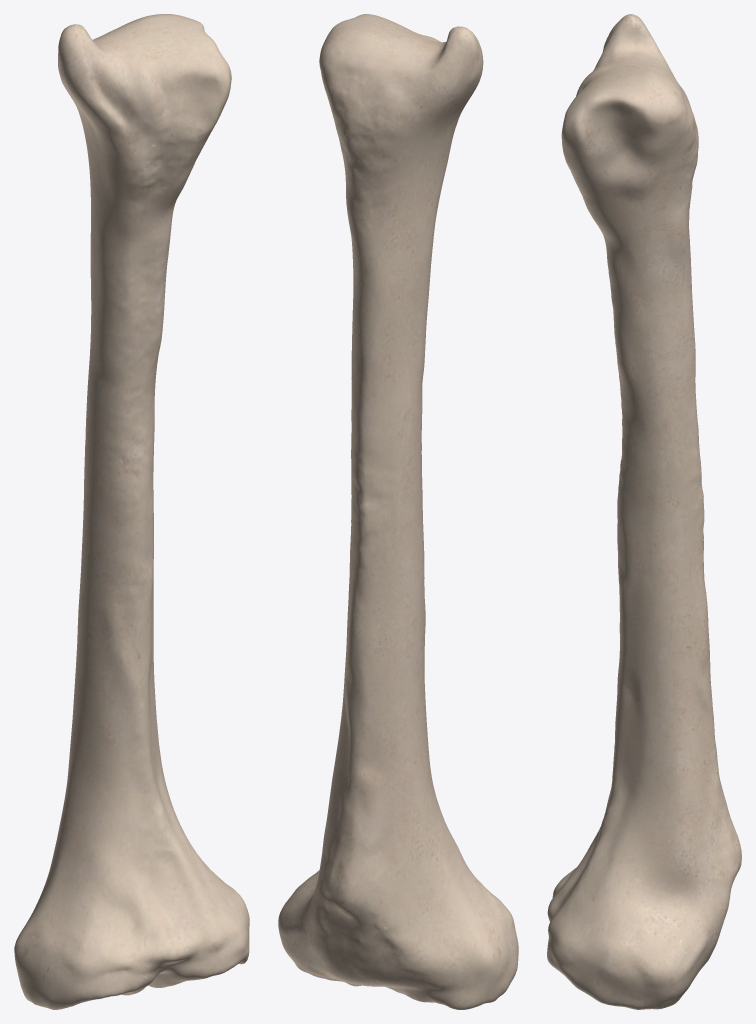
The model's file is bone_lower_leg_left.gltf.
3 views of the same model, side by side, from view 1: azimuth 30°, elevation 25°; view 2: azimuth 150°, elevation 25°; view 3: azimuth 270°, elevation 25° (orthographic). The views are drawn at different scales.
Parts seen in each view (by area): view 1: Unterschenkelknochen_L003_158; view 2: Unterschenkelknochen_L003_158; view 3: Unterschenkelknochen_L003_158.
Part boxes in pixels (box(x1,y1,x2,y2)): Unterschenkelknochen_L003_158: box(14, 14, 249, 1009); Unterschenkelknochen_L003_158: box(278, 14, 518, 1009); Unterschenkelknochen_L003_158: box(547, 14, 741, 1009).
Size of the model in its own units: 0.3708 by 1.61 by 0.3053.
1 material, 1 textured.
